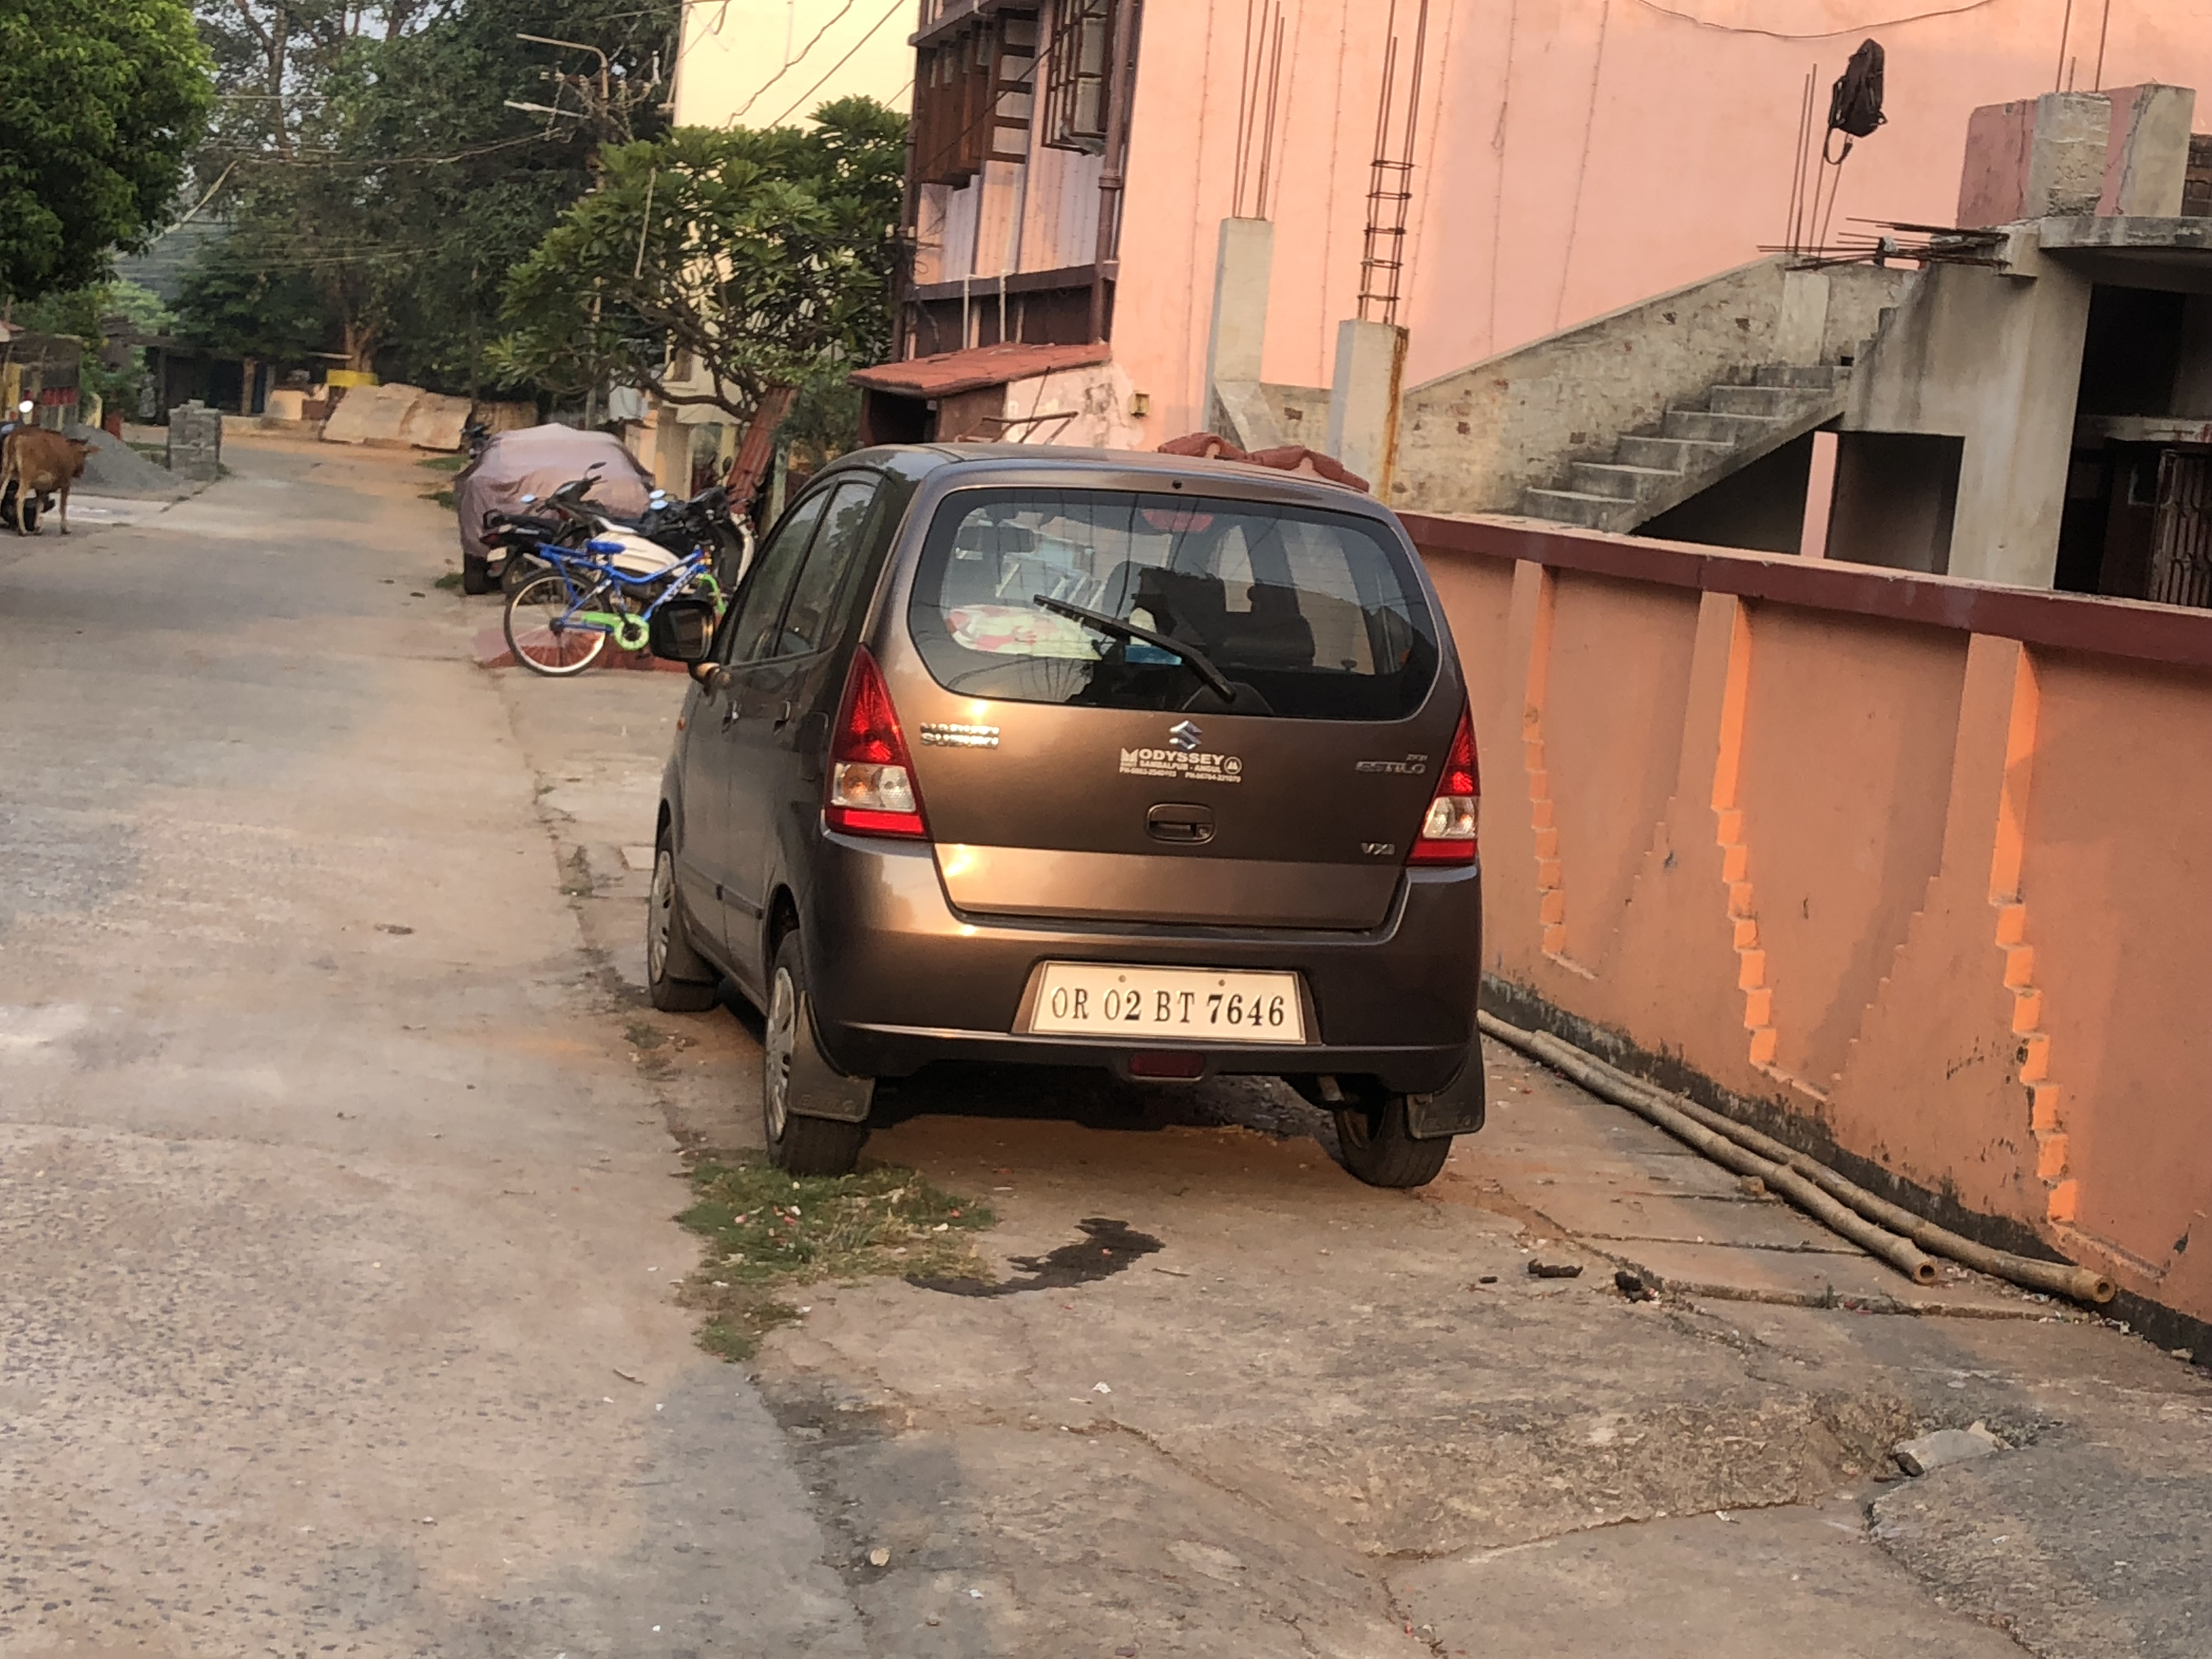licenseplate: (1033, 939, 1303, 1051)
